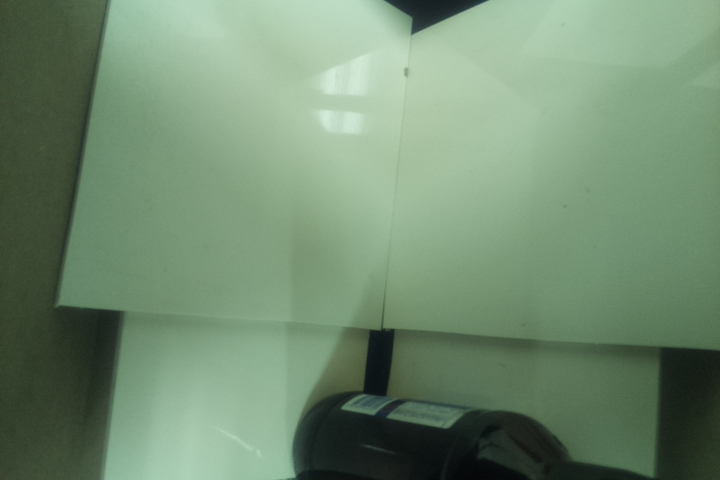makju: (289, 389, 667, 480)
